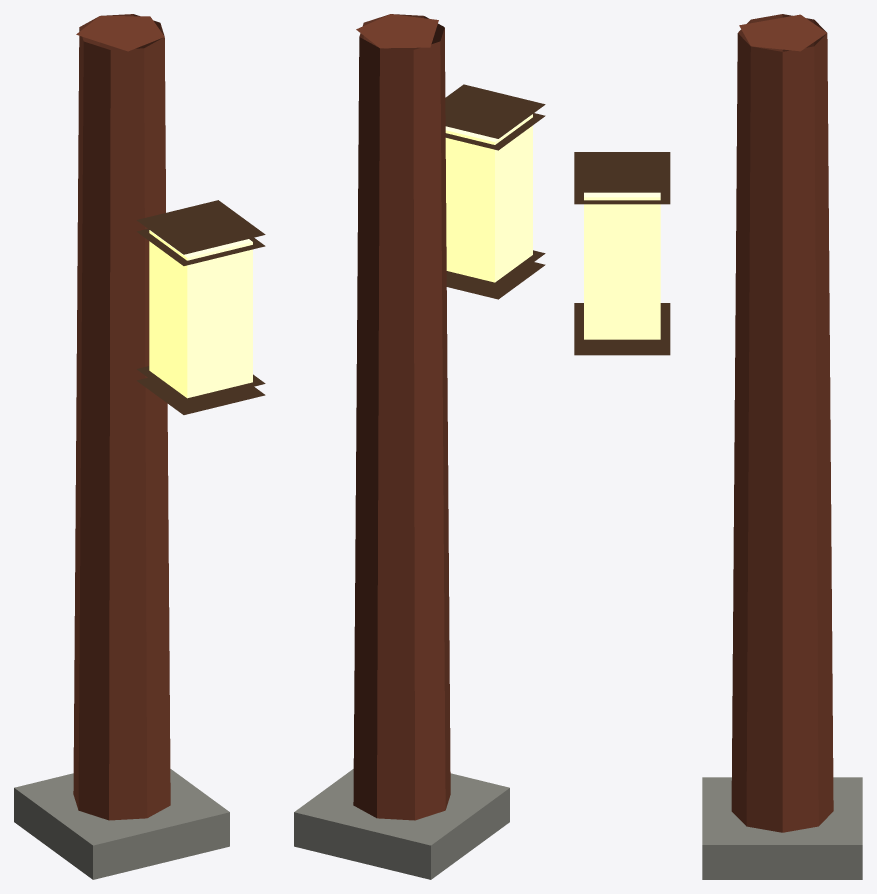
File: prop_post_lamp_lod1.glb
3 renders of one model, left to right at view 1: azimuth 30°, elevation 25°; view 2: azimuth 150°, elevation 25°; view 3: azimuth 270°, elevation 25°, orthographic.
Visible parts, largest first — view 1: prop_post_lamp_lod1; view 2: prop_post_lamp_lod1; view 3: prop_post_lamp_lod1.
Boxes of the visible parts, left/top/right/bottom form: prop_post_lamp_lod1: left=14, top=14, right=265, bottom=879; prop_post_lamp_lod1: left=294, top=14, right=545, bottom=879; prop_post_lamp_lod1: left=574, top=14, right=862, bottom=879.
Bounding box in the file's own units: 0.5 × 2.8 × 0.9.
